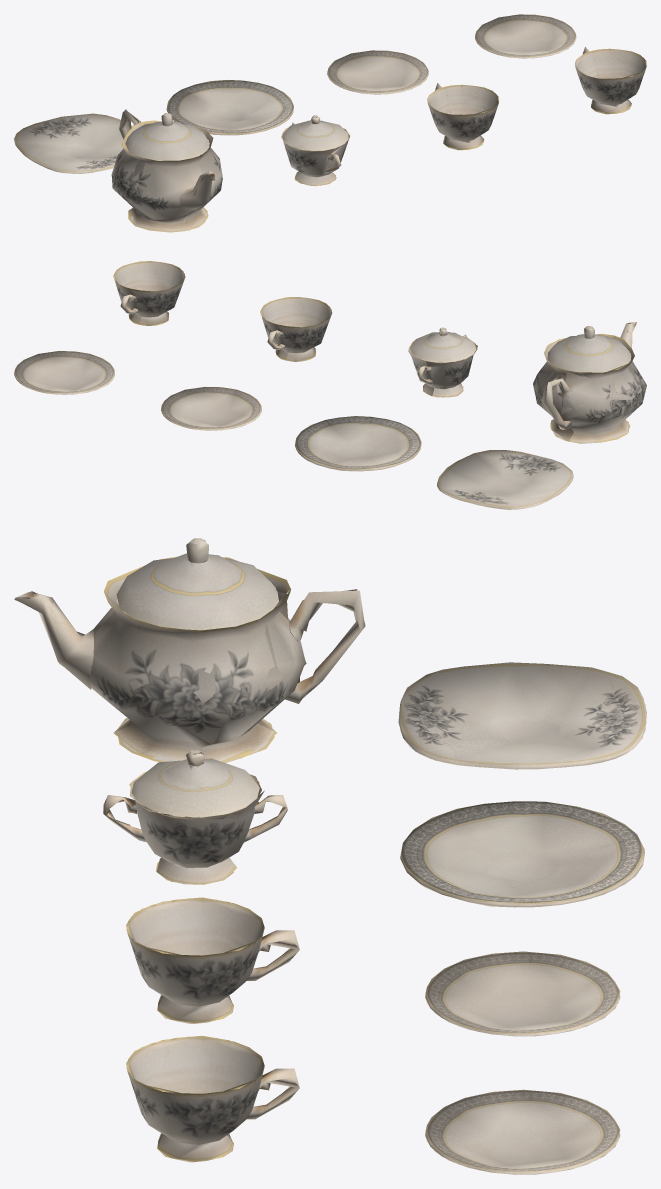
The model's file is cafe-tableware.glb.
3 renders of one model, top to bottom at view 1: azimuth 30°, elevation 25°; view 2: azimuth 150°, elevation 25°; view 3: azimuth 270°, elevation 25°, orthographic. The views are drawn at different scales.
Parts seen in each view (by area): view 1: tea_set_01_teapot_01, tea_set_01_plate_large_circular_03, tea_set_01_plate_large_square_01, tea_set_01_saucer_circular_04, tea_set_01_cup_small_01, tea_set_01_saucer_circular_03, tea_set_01_cup_small_02, tea_set_01_teapot_01_lid, tea_set_01_sugar_cup_01, tea_set_01_sugar_cup_01_lid; view 2: tea_set_01_teapot_01, tea_set_01_plate_large_square_01, tea_set_01_plate_large_circular_03, tea_set_01_cup_small_01, tea_set_01_cup_small_02, tea_set_01_saucer_circular_04, tea_set_01_saucer_circular_03, tea_set_01_teapot_01_lid, tea_set_01_sugar_cup_01, tea_set_01_sugar_cup_01_lid; view 3: tea_set_01_teapot_01, tea_set_01_plate_large_square_01, tea_set_01_plate_large_circular_03, tea_set_01_cup_small_02, tea_set_01_cup_small_01, tea_set_01_saucer_circular_04, tea_set_01_saucer_circular_03, tea_set_01_teapot_01_lid, tea_set_01_sugar_cup_01, tea_set_01_sugar_cup_01_lid.
Boxes of the visible parts, x1,y1,x2,y2 form: tea_set_01_teapot_01: [111, 109, 222, 232]; tea_set_01_plate_large_circular_03: [166, 80, 293, 135]; tea_set_01_plate_large_square_01: [14, 113, 132, 173]; tea_set_01_saucer_circular_04: [327, 50, 428, 94]; tea_set_01_cup_small_01: [427, 83, 499, 150]; tea_set_01_saucer_circular_03: [475, 14, 576, 58]; tea_set_01_cup_small_02: [575, 47, 646, 114]; tea_set_01_teapot_01_lid: [125, 113, 209, 160]; tea_set_01_sugar_cup_01: [281, 122, 349, 186]; tea_set_01_sugar_cup_01_lid: [282, 115, 348, 150]; tea_set_01_teapot_01: [533, 322, 646, 443]; tea_set_01_plate_large_square_01: [437, 450, 573, 509]; tea_set_01_plate_large_circular_03: [295, 416, 421, 471]; tea_set_01_cup_small_01: [260, 297, 332, 361]; tea_set_01_cup_small_02: [113, 261, 185, 325]; tea_set_01_saucer_circular_04: [161, 386, 261, 430]; tea_set_01_saucer_circular_03: [14, 351, 114, 394]; tea_set_01_teapot_01_lid: [547, 326, 631, 372]; tea_set_01_sugar_cup_01: [408, 334, 477, 397]; tea_set_01_sugar_cup_01_lid: [409, 327, 476, 362]; tea_set_01_teapot_01: [14, 556, 365, 762]; tea_set_01_plate_large_square_01: [398, 662, 646, 769]; tea_set_01_plate_large_circular_03: [400, 801, 644, 907]; tea_set_01_cup_small_02: [126, 1035, 299, 1162]; tea_set_01_cup_small_01: [126, 897, 299, 1023]; tea_set_01_saucer_circular_04: [425, 951, 620, 1036]; tea_set_01_saucer_circular_03: [425, 1089, 620, 1174]; tea_set_01_teapot_01_lid: [116, 538, 278, 630]; tea_set_01_sugar_cup_01: [103, 771, 287, 884]; tea_set_01_sugar_cup_01_lid: [131, 750, 259, 817].
Size of the model in its own units: 0.9183 by 0.1652 by 0.4836.
Materials: 1 (1 with a texture image).
